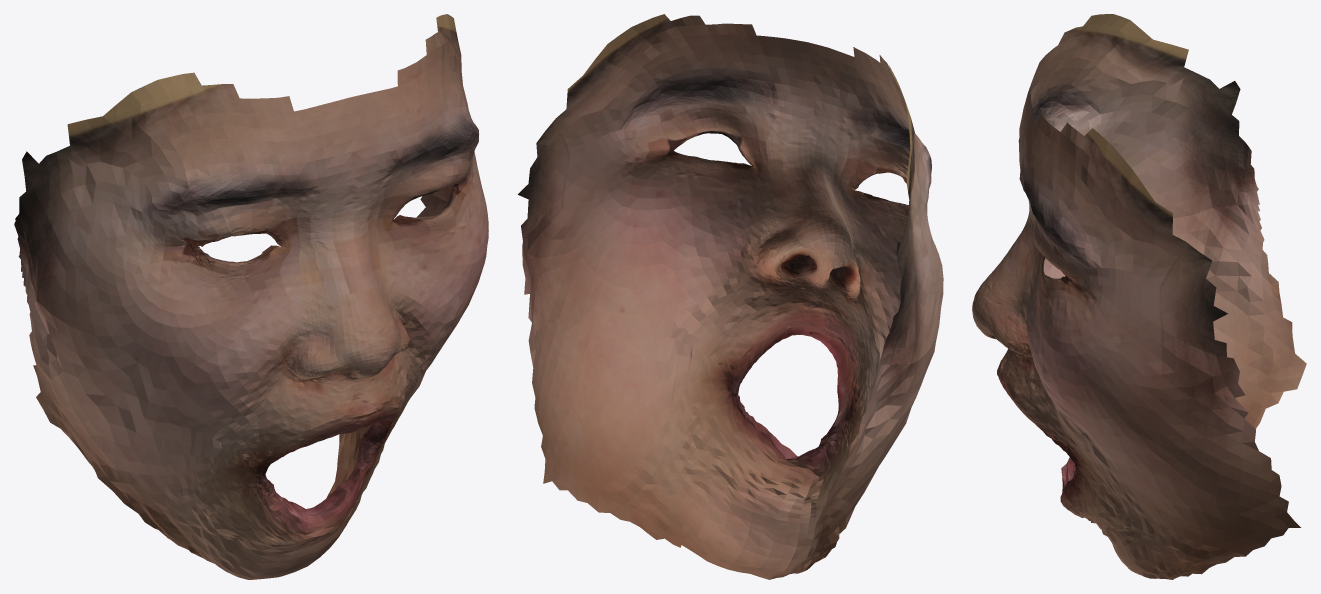
File: 3_mouth_stretch.obj
3 views of the same model, side by side, from view 1: azimuth 30°, elevation 25°; view 2: azimuth 150°, elevation 25°; view 3: azimuth 270°, elevation 25° (orthographic). The views are drawn at different scales.
Size of the model in its own units: 162 by 203 by 122.
Materials: 1 (1 with a texture image).
